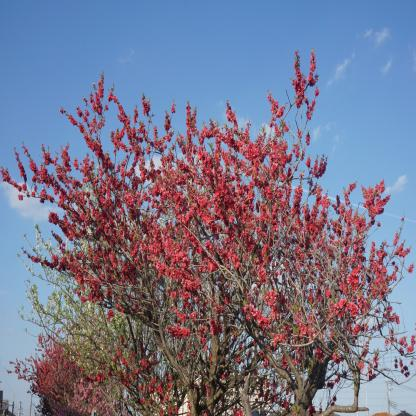Momo: (0, 48, 416, 416), (12, 221, 159, 416), (1, 333, 124, 416)
